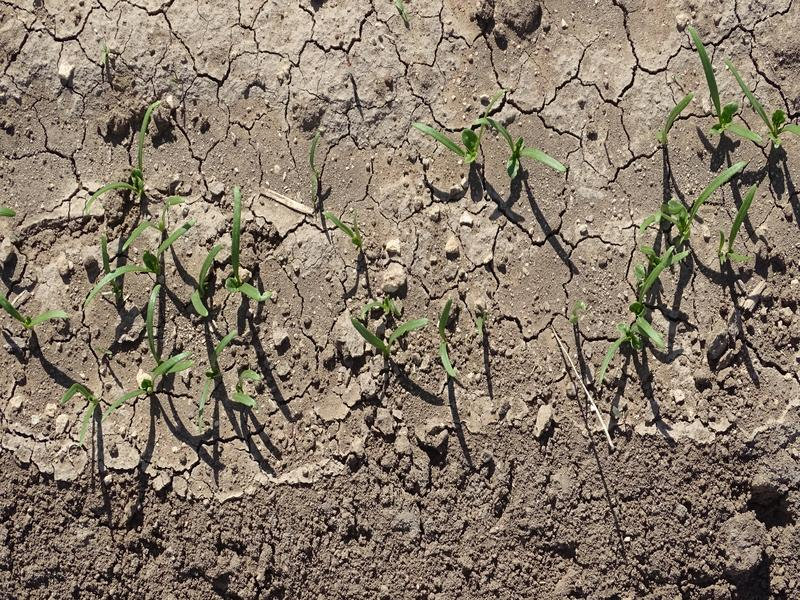Espinaca: (69, 213, 271, 420), (641, 101, 800, 251), (585, 251, 683, 373), (430, 104, 563, 182), (354, 296, 471, 378)
